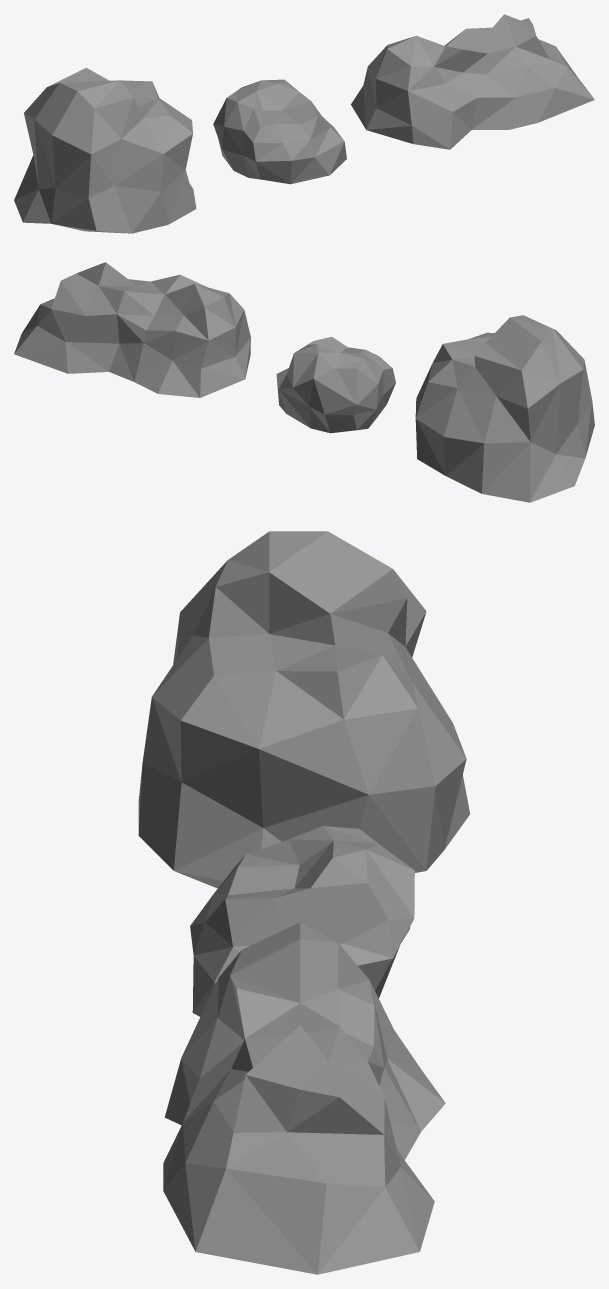
File: smallrocks.fbx
3 renders of one model, top to bottom at view 1: azimuth 30°, elevation 25°; view 2: azimuth 150°, elevation 25°; view 3: azimuth 270°, elevation 25°, orthographic. The views are drawn at different scales.
Visible parts, largest first — view 1: SM_stone_02_SH, SM_stone_03_SH, SM_stone_01_SH; view 2: SM_stone_02_SH, SM_stone_03_SH, SM_stone_01_SH; view 3: SM_stone_02_SH, SM_stone_03_SH, SM_stone_01_SH.
Boxes of the visible parts, left/top/right/bottom form: SM_stone_02_SH: left=14, top=67, right=196, bottom=233; SM_stone_03_SH: left=351, top=14, right=594, bottom=149; SM_stone_01_SH: left=213, top=79, right=346, bottom=184; SM_stone_02_SH: left=415, top=315, right=594, bottom=502; SM_stone_03_SH: left=14, top=262, right=250, bottom=397; SM_stone_01_SH: left=276, top=337, right=395, bottom=433; SM_stone_02_SH: left=138, top=531, right=469, bottom=888; SM_stone_03_SH: left=163, top=922, right=445, bottom=1274; SM_stone_01_SH: left=190, top=826, right=414, bottom=1016.
Bounding box in the file's own units: 2431 × 633 × 608.
